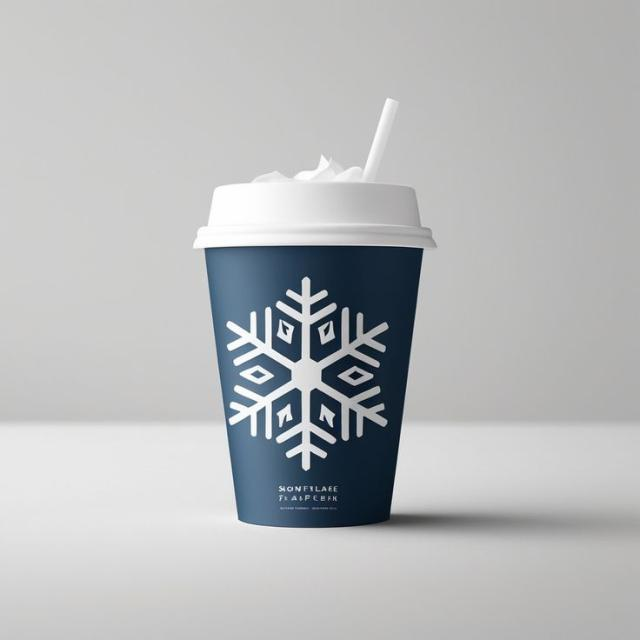paper cup: (192, 154, 438, 528)
